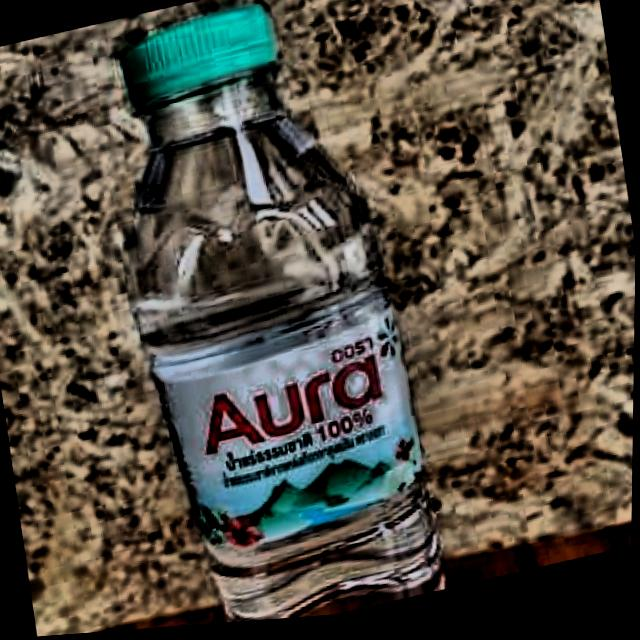Bottles: (52, 0, 479, 637)
